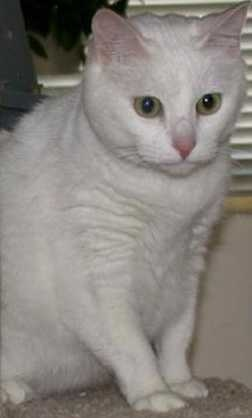Cat: (59, 2, 248, 382)
